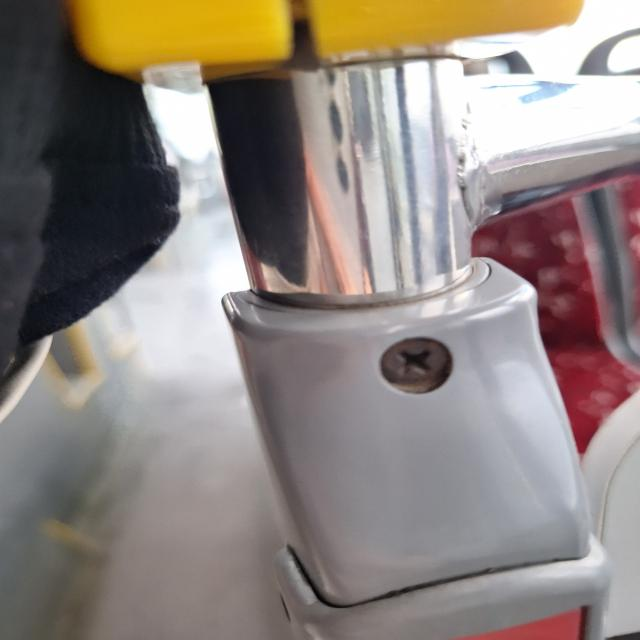Phillips: (373, 334, 462, 395)
